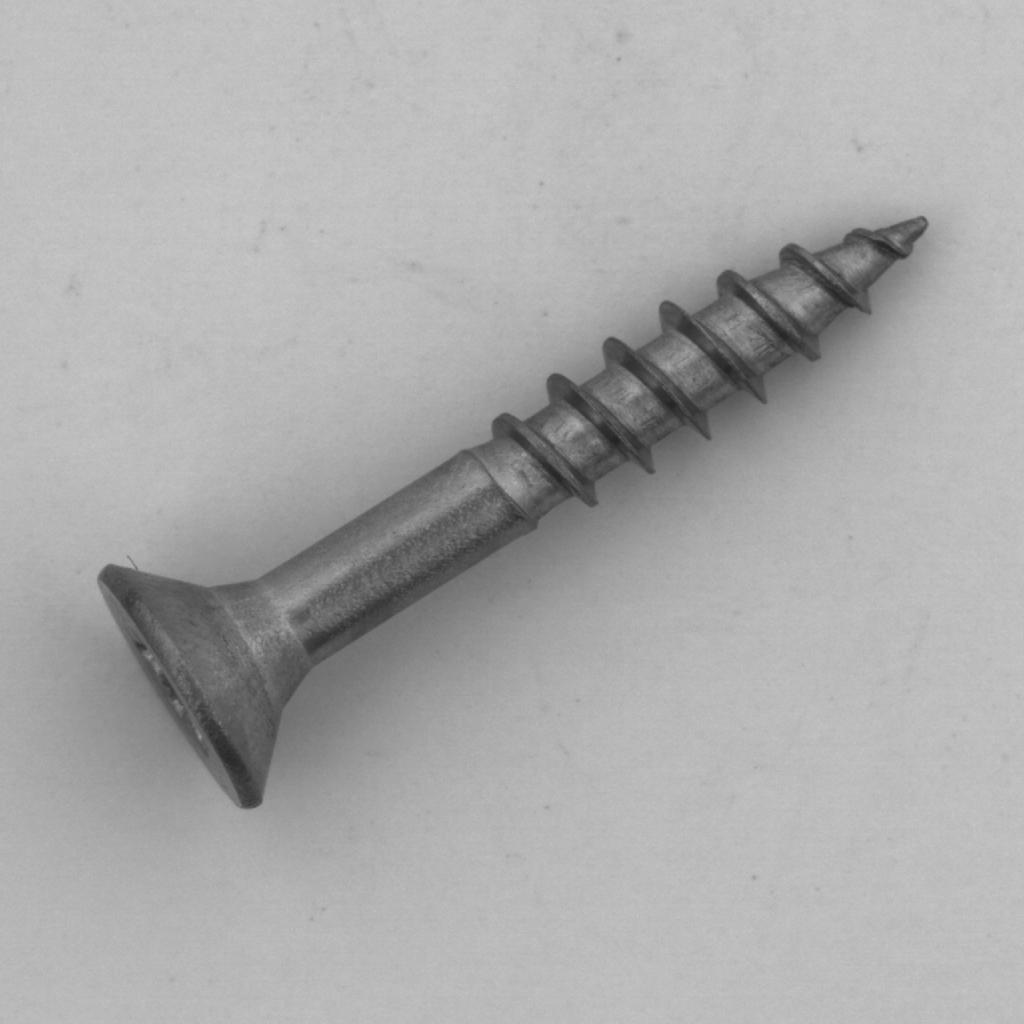good: (79, 188, 954, 826)
